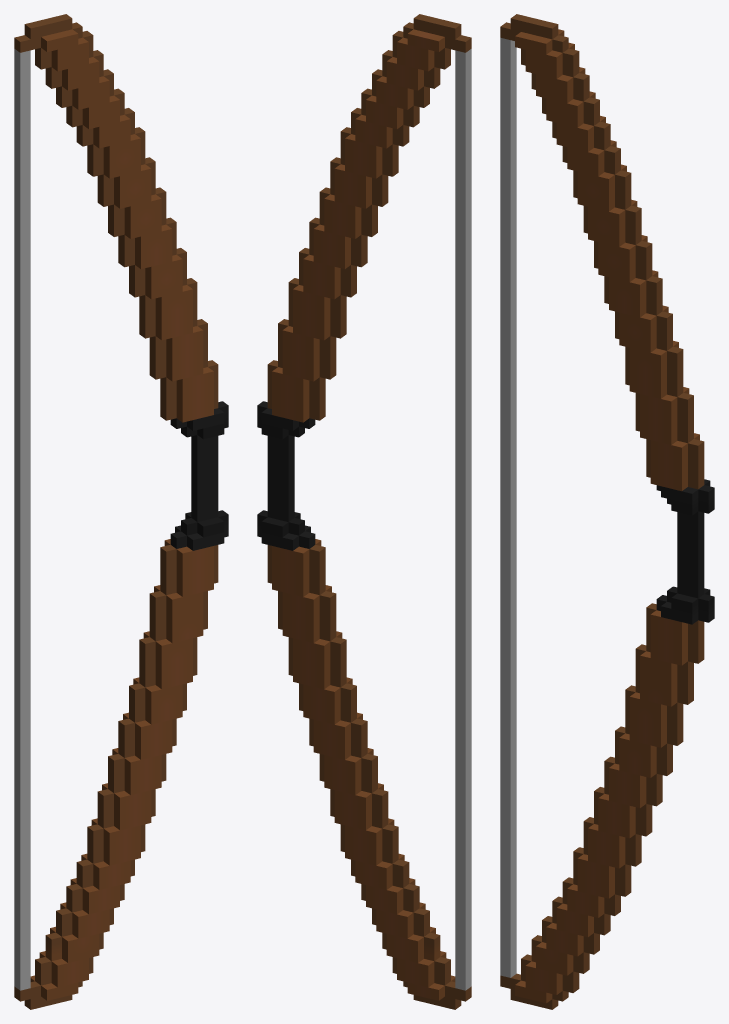
The model's file is bow.fbx.
3 views of the same model, side by side, from view 1: azimuth 30°, elevation 25°; view 2: azimuth 150°, elevation 25°; view 3: azimuth 330°, elevation 25° (orthographic).
Parts seen in each view (by area): view 1: handle, string; view 2: handle, string; view 3: handle, string.
Part boxes in pixels (x1,y1,x2,y2): handle: (14,14,228,1009); string: (14,49,30,990); handle: (257,14,471,1009); string: (455,49,471,990); handle: (500,14,714,1009); string: (500,37,516,977).
Bounding box in the file's own units: 20 × 90 × 3.
Materials: 1 (1 with a texture image).
